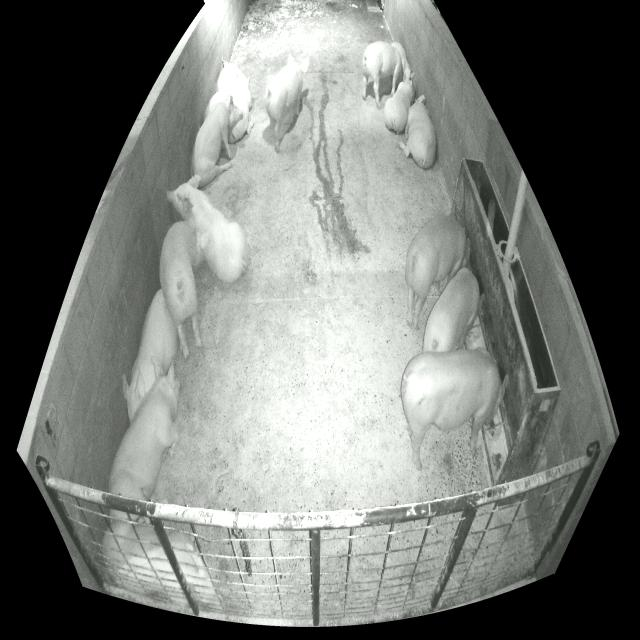pig: (401, 347, 509, 471), (108, 356, 182, 501), (103, 519, 215, 609), (167, 175, 248, 283), (122, 289, 178, 423), (406, 215, 470, 328), (160, 220, 208, 359), (422, 267, 485, 352), (191, 94, 243, 188), (266, 55, 308, 152), (216, 58, 252, 143), (397, 95, 436, 169), (362, 41, 402, 109), (384, 72, 414, 133), (391, 42, 412, 79), (203, 91, 226, 121)
